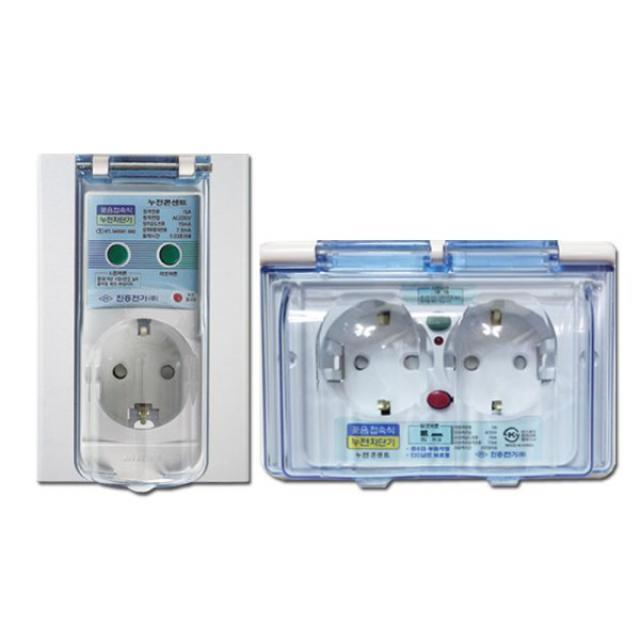typeb: (258, 217, 622, 515), (21, 132, 258, 502)
